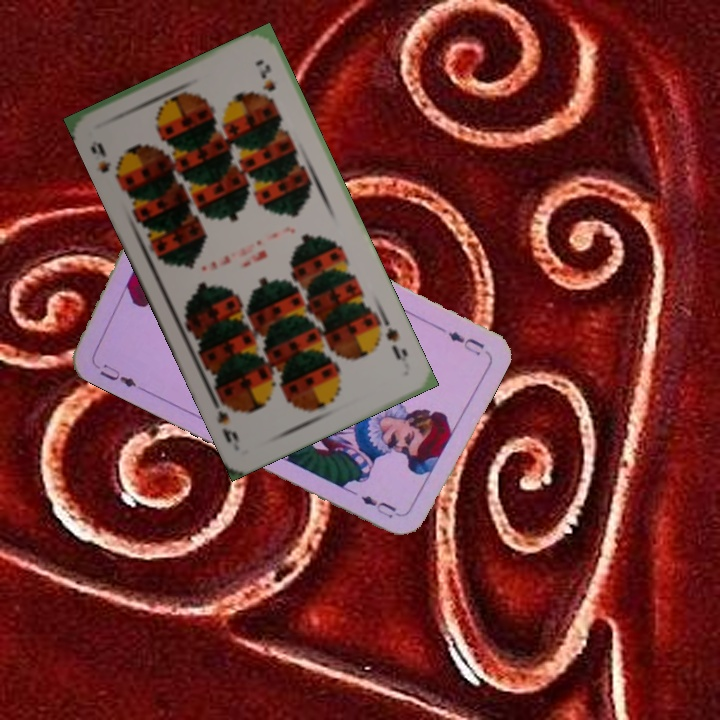EU: (89, 357, 139, 390), (444, 327, 487, 359)
S9: (86, 139, 126, 185), (382, 323, 411, 364)
